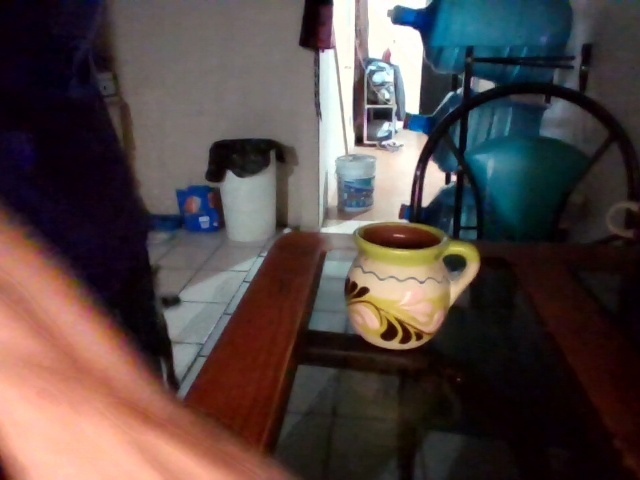taza: (344, 221, 481, 352), (335, 154, 376, 218)
